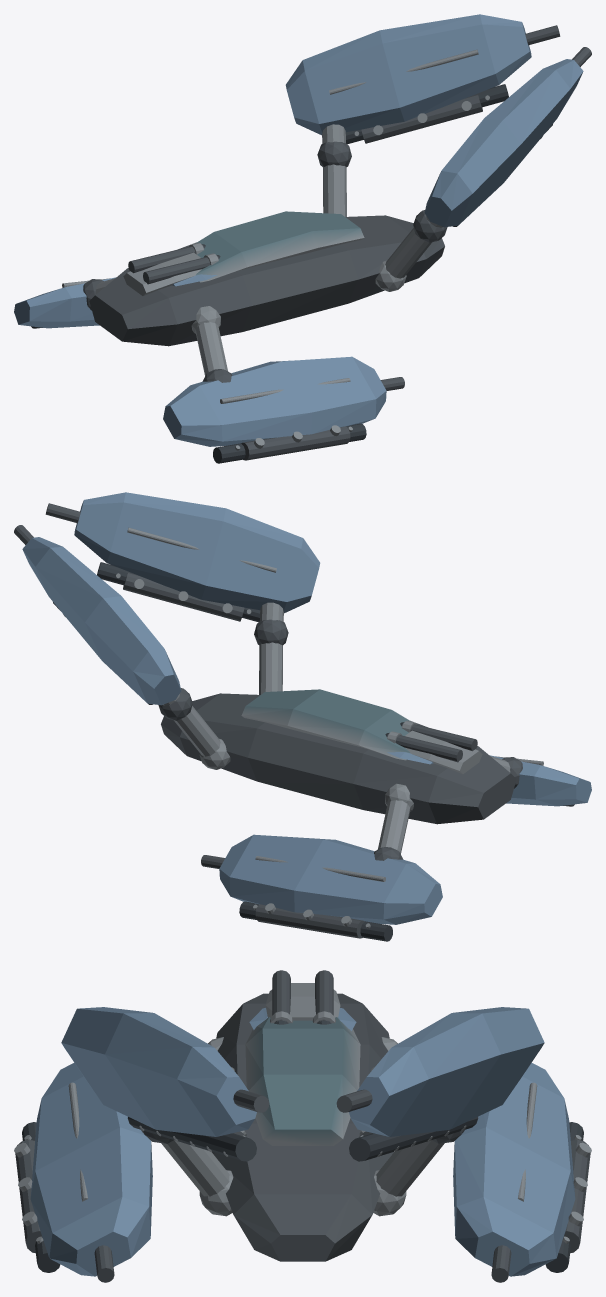
File: x5_blue_attack_off.glb
3 views of the same model, one above another, from view 1: azimuth 30°, elevation 25°; view 2: azimuth 150°, elevation 25°; view 3: azimuth 270°, elevation 25° (orthographic). The views are drawn at different scales.
Parts seen in each view (by area): view 1: pod_armor_10, center_hull_0, cabin_base_1, mechanical_arms_8, pod_mechanics_13, outer_joint_9, missile_body_3, inner_drive_rail_15, launcher_saddle_2, pod_rail_11, inner_joint_7, forward_gun_12; view 2: pod_armor_10, center_hull_0, cabin_base_1, mechanical_arms_8, pod_mechanics_13, outer_joint_9, missile_body_3, inner_drive_rail_15, launcher_saddle_2, pod_rail_11, inner_joint_7, forward_gun_12; view 3: pod_armor_10, center_hull_0, cabin_base_1, inner_drive_rail_15, mechanical_arms_8, pod_mechanics_13, forward_gun_12, missile_body_3, inner_joint_7, launcher_saddle_2, pod_rail_11, mechanical_crossbeam_14 (+1 smaller).
Part boxes in pixels (x1,y1,x2,y2): pod_armor_10: [14, 14, 583, 446]; center_hull_0: [89, 215, 444, 346]; cabin_base_1: [196, 211, 364, 282]; mechanical_arms_8: [95, 124, 442, 376]; pod_mechanics_13: [241, 94, 482, 460]; outer_joint_9: [83, 141, 447, 382]; missile_body_3: [128, 244, 218, 284]; inner_drive_rail_15: [31, 84, 552, 463]; launcher_saddle_2: [123, 252, 201, 295]; pod_rail_11: [62, 49, 478, 403]; inner_joint_7: [191, 260, 406, 333]; forward_gun_12: [380, 25, 591, 390]; pod_armor_10: [22, 492, 591, 924]; center_hull_0: [161, 693, 516, 824]; cabin_base_1: [241, 689, 410, 760]; mechanical_arms_8: [163, 602, 510, 854]; pod_mechanics_13: [123, 572, 364, 938]; outer_joint_9: [158, 619, 522, 860]; missile_body_3: [387, 722, 477, 762]; inner_drive_rail_15: [53, 562, 574, 941]; launcher_saddle_2: [405, 730, 482, 773]; pod_rail_11: [127, 527, 543, 881]; inner_joint_7: [199, 738, 413, 811]; forward_gun_12: [14, 503, 225, 868]; pod_armor_10: [30, 1007, 575, 1276]; center_hull_0: [212, 993, 393, 1261]; cabin_base_1: [245, 1017, 360, 1145]; inner_drive_rail_15: [22, 1117, 583, 1272]; mechanical_arms_8: [161, 1140, 444, 1196]; pod_mechanics_13: [15, 1131, 590, 1253]; forward_gun_12: [94, 1089, 511, 1282]; missile_body_3: [272, 970, 333, 1023]; inner_joint_7: [199, 1037, 406, 1216]; launcher_saddle_2: [265, 983, 340, 1020]; pod_rail_11: [68, 1067, 537, 1201]; mechanical_crossbeam_14: [14, 1130, 591, 1226].
Size of the model in its own units: 6.03 by 3.3 by 4.32.
